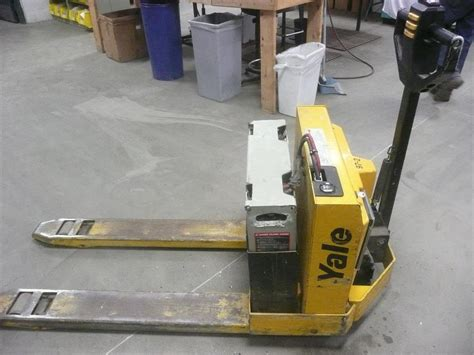Pallet Jack: (3, 4, 465, 335)
